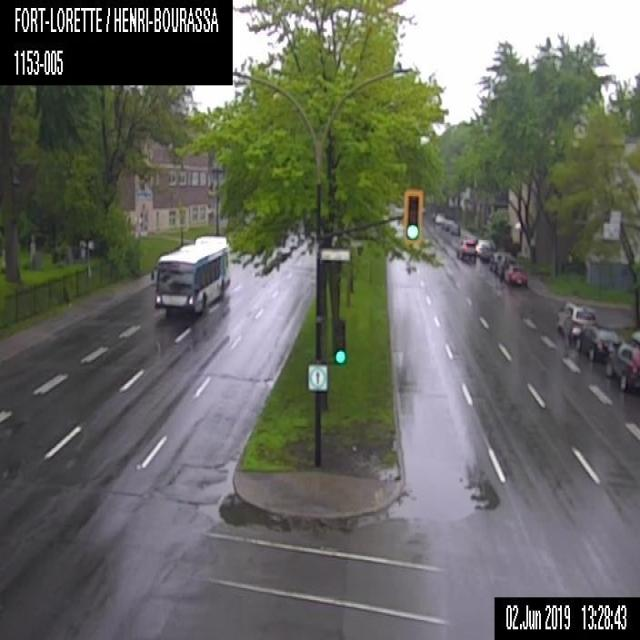bus: (150, 234, 230, 318)
pedestrian: (562, 307, 572, 356)
vehicle: (578, 322, 622, 360), (608, 343, 639, 396), (555, 301, 597, 335), (506, 261, 528, 287), (456, 237, 477, 260), (496, 256, 516, 279), (490, 250, 510, 272), (475, 238, 495, 260), (449, 220, 460, 235)
